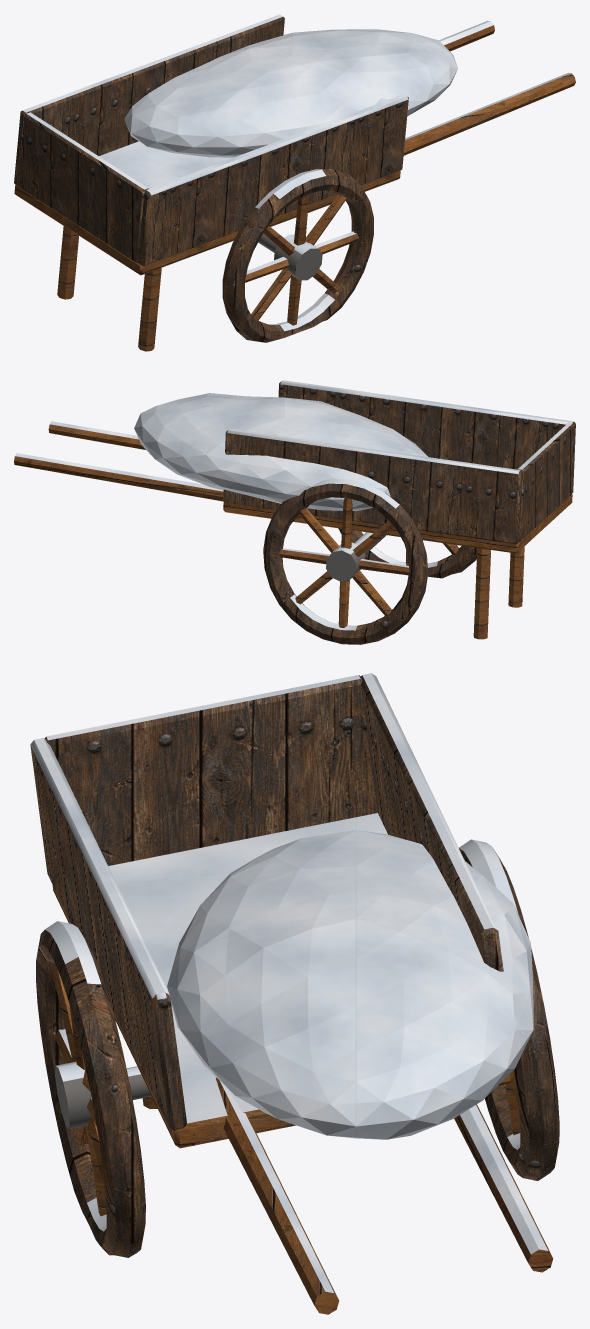
File: snow-abandoned-cart-v01.glb
3 views of the same model, one above another, from view 1: azimuth 30°, elevation 25°; view 2: azimuth 150°, elevation 25°; view 3: azimuth 270°, elevation 25° (orthographic). The views are drawn at different scales.
Parts seen in each view (by area): view 1: snow-abandoned-cart; view 2: snow-abandoned-cart; view 3: snow-abandoned-cart.
Boxes of the visible parts, left/top/right/bottom form: snow-abandoned-cart: left=14, top=14, right=575, bottom=351; snow-abandoned-cart: left=14, top=380, right=575, bottom=644; snow-abandoned-cart: left=30, top=673, right=559, bottom=1314.
Bounding box in the file's own units: 3.05 × 1.14 × 1.44.
Materials: 4 (3 with a texture image).
